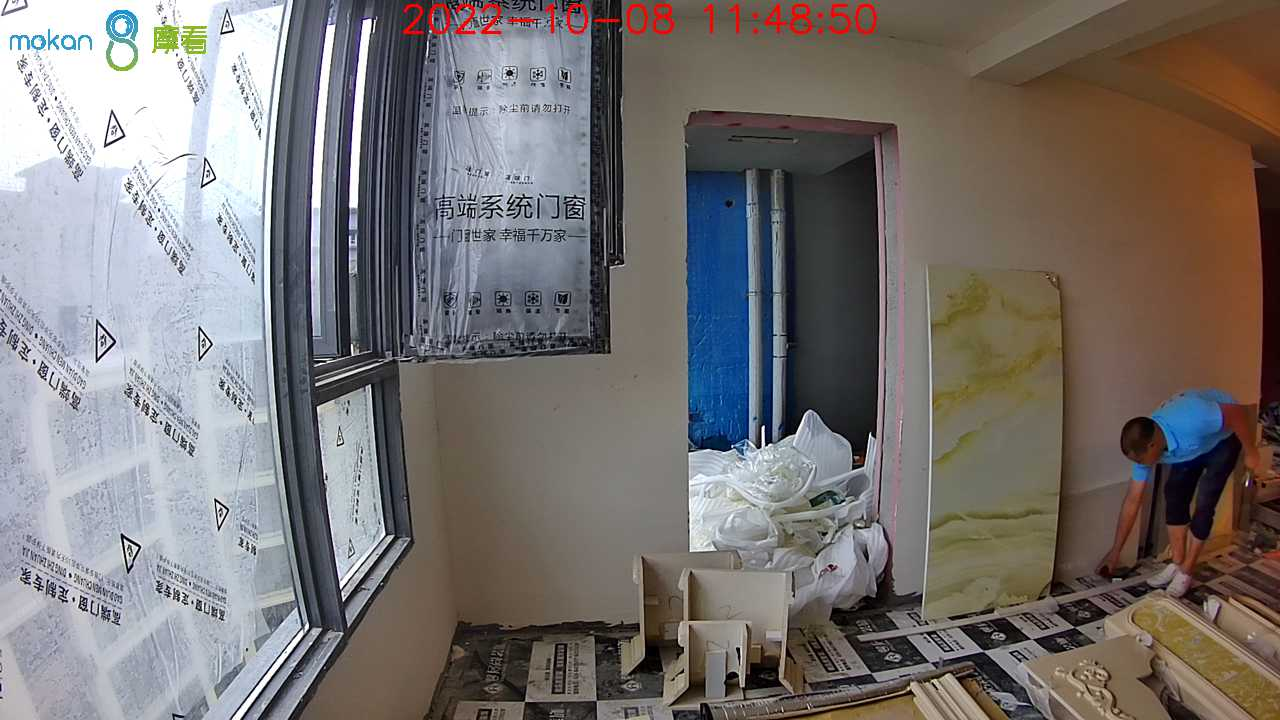people: (1096, 387, 1262, 599)
window: (1, 3, 419, 720), (10, 13, 318, 720)
